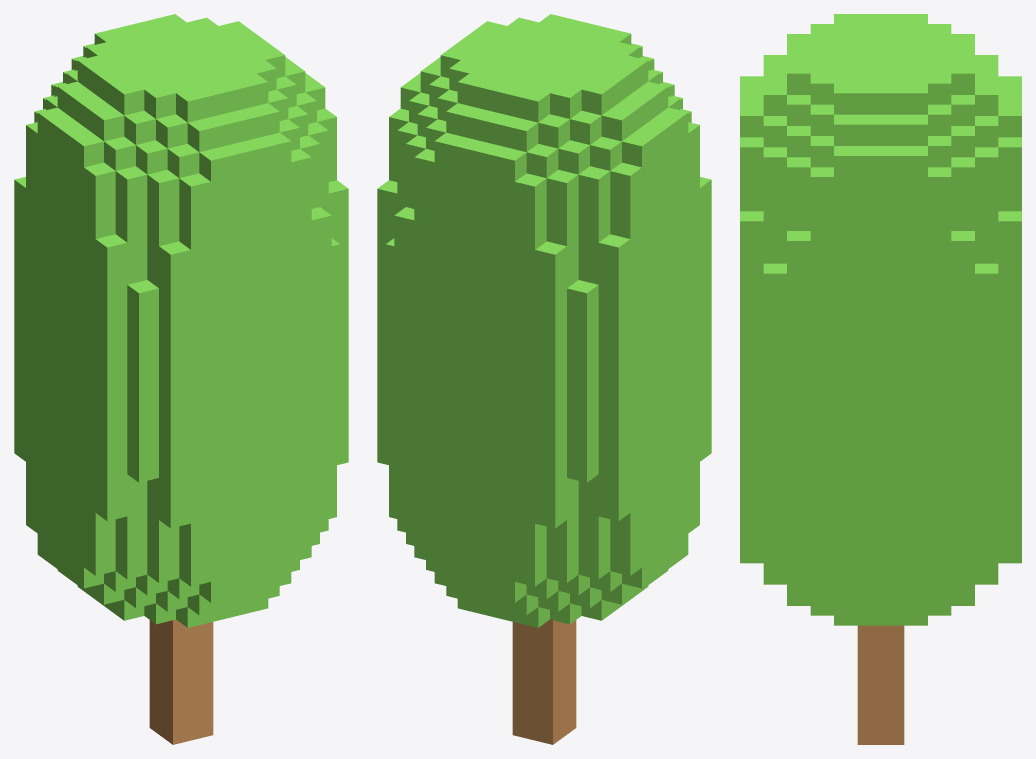
File: Tree_1.obj
3 renders of one model, left to right at view 1: azimuth 30°, elevation 25°; view 2: azimuth 150°, elevation 25°; view 3: azimuth 270°, elevation 25°, orthographic.
Size of the model in its own units: 1.2 by 3.2 by 1.2.
1 material, 1 textured.
